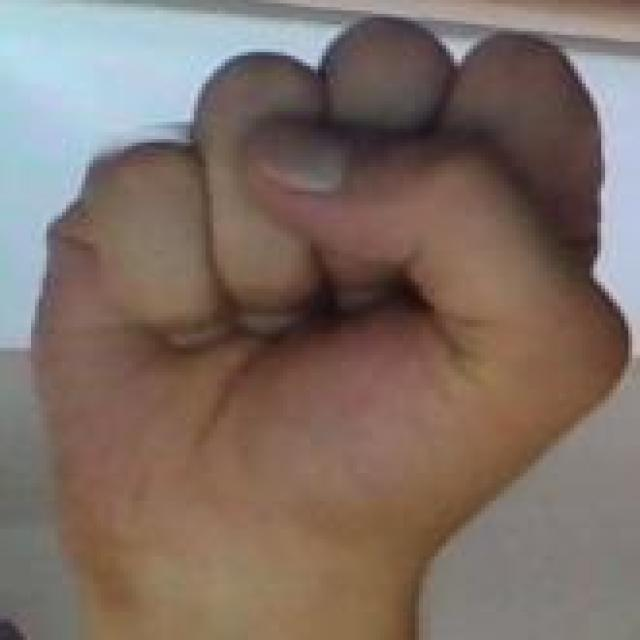S: (0, 0, 640, 637)
